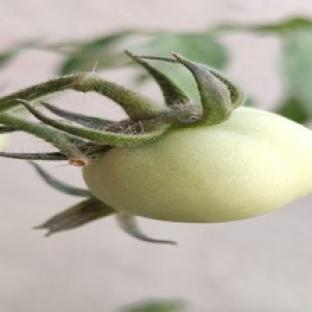Tomato: (84, 108, 311, 222), (0, 136, 5, 150)
